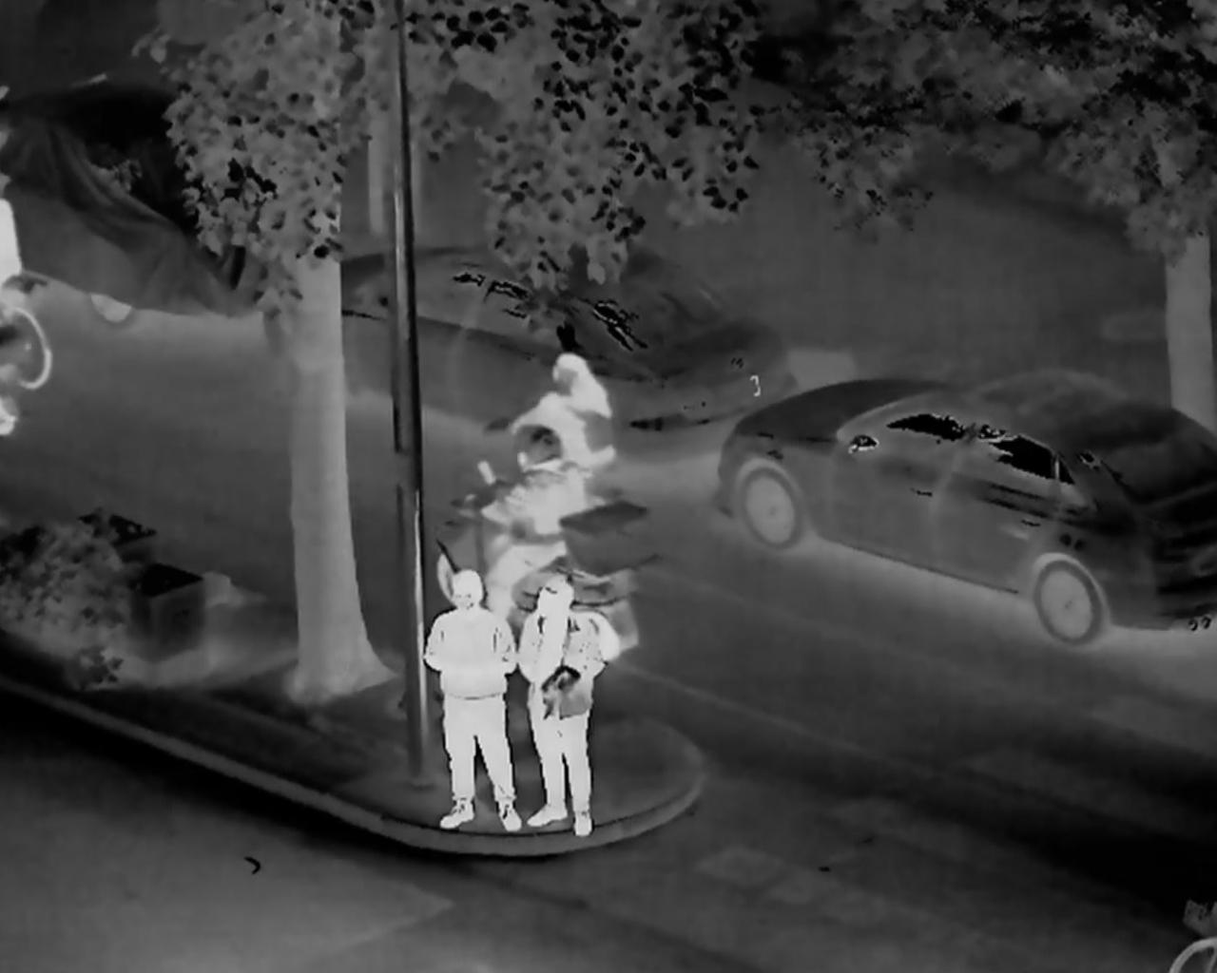person: (427, 569, 528, 854), (518, 573, 619, 838), (497, 343, 623, 541), (485, 422, 588, 601)
